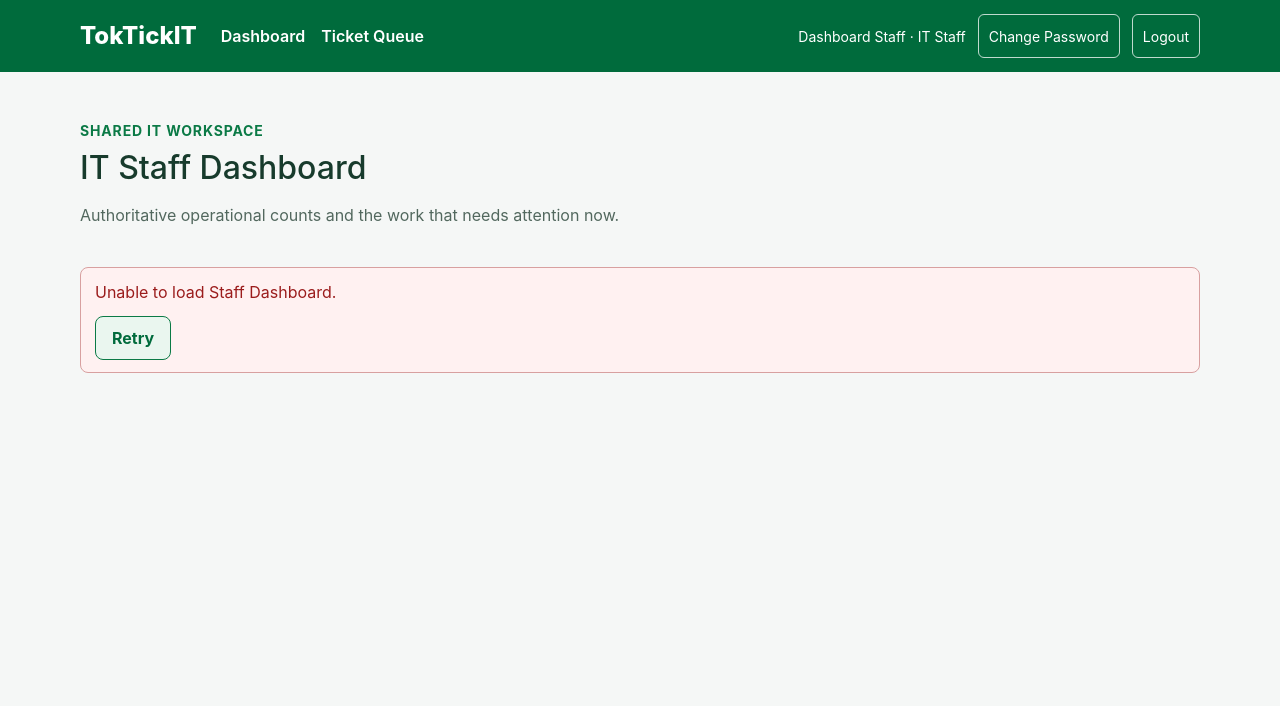
it: Lab 4 Staff Dashboard UI › provides loading/error retry and an explicit empty operational state
Expected: the message shows "Unable to load Staff Dashboard", [95,282,336,302]
Click the button "Retry" at (133, 338), box [95,316,171,360]
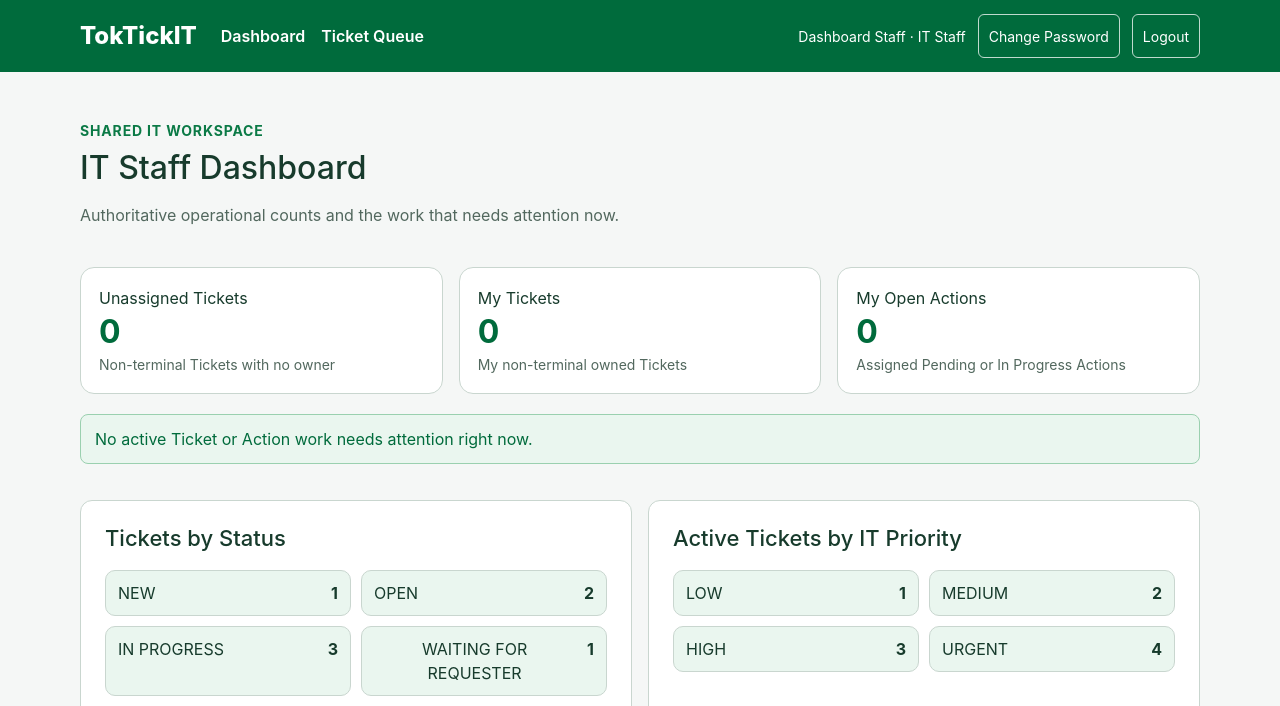
Expected: the text "No active Ticket or Action work needs attention right now." is shown, [80,414,1200,464]
